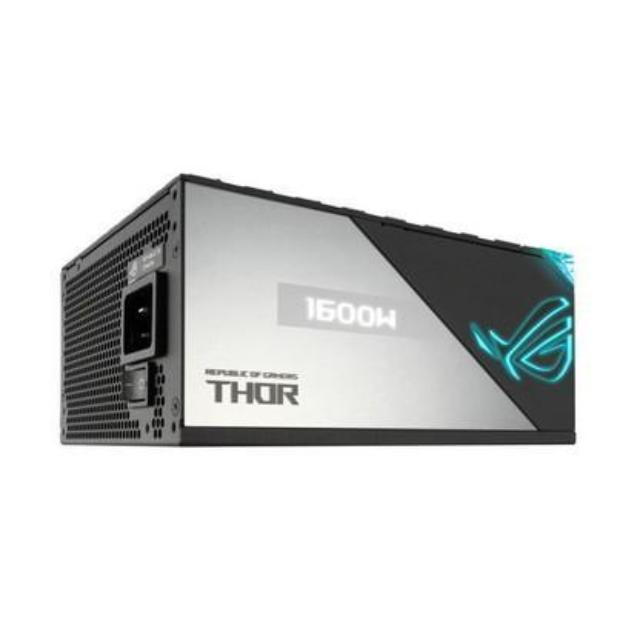PSU: (50, 170, 612, 452)
